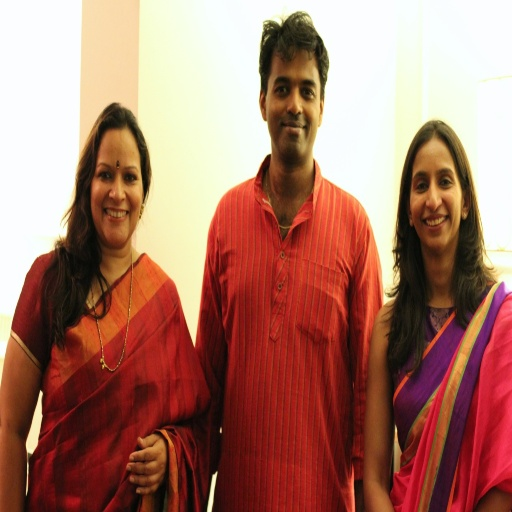hand: (118, 433, 176, 496)
